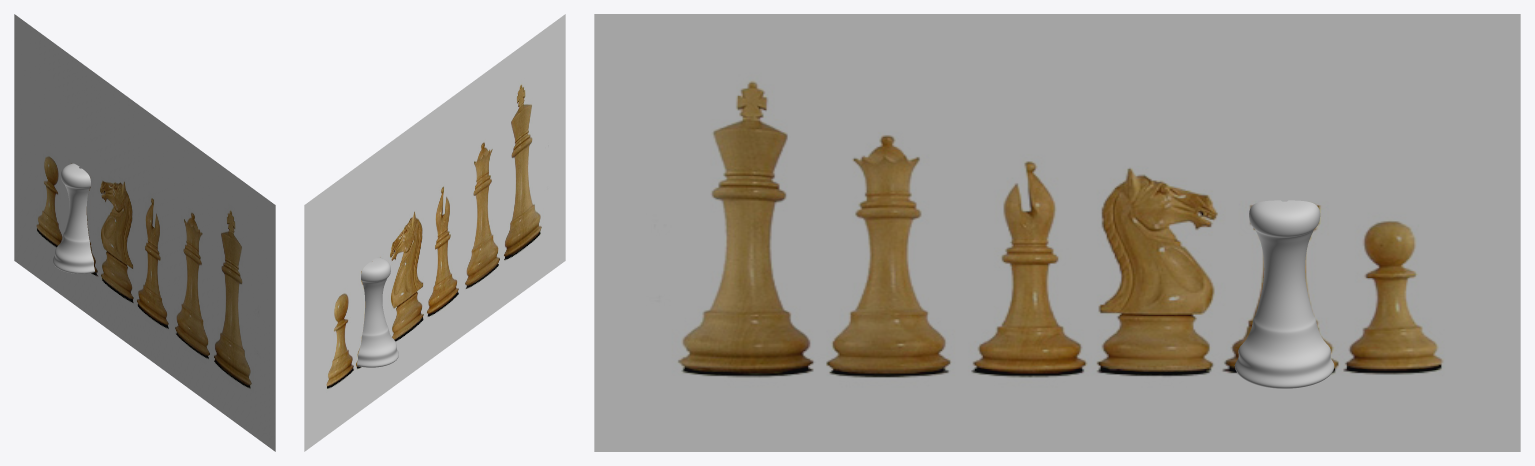
The model's file is rook.obj.
The picture shows the model from 3 angles, left to right: view 1: azimuth 30°, elevation 25°; view 2: azimuth 150°, elevation 25°; view 3: azimuth 270°, elevation 25°; orthographic projection. The views are drawn at different scales.
Parts seen in each view (by area): view 1: staunton-chess-set-1, Rook.001_Plane.001; view 2: staunton-chess-set-1, Rook.001_Plane.001; view 3: staunton-chess-set-1, Rook.001_Plane.001.
Part boxes in pixels (bbox=[...]): staunton-chess-set-1: bbox=[14, 14, 275, 451]; Rook.001_Plane.001: bbox=[53, 163, 94, 273]; staunton-chess-set-1: bbox=[304, 14, 565, 451]; Rook.001_Plane.001: bbox=[357, 257, 398, 367]; staunton-chess-set-1: bbox=[594, 14, 1520, 451]; Rook.001_Plane.001: bbox=[1234, 200, 1334, 388].
Bounding box in the file's own units: 0.2062 × 1 × 1.92.
